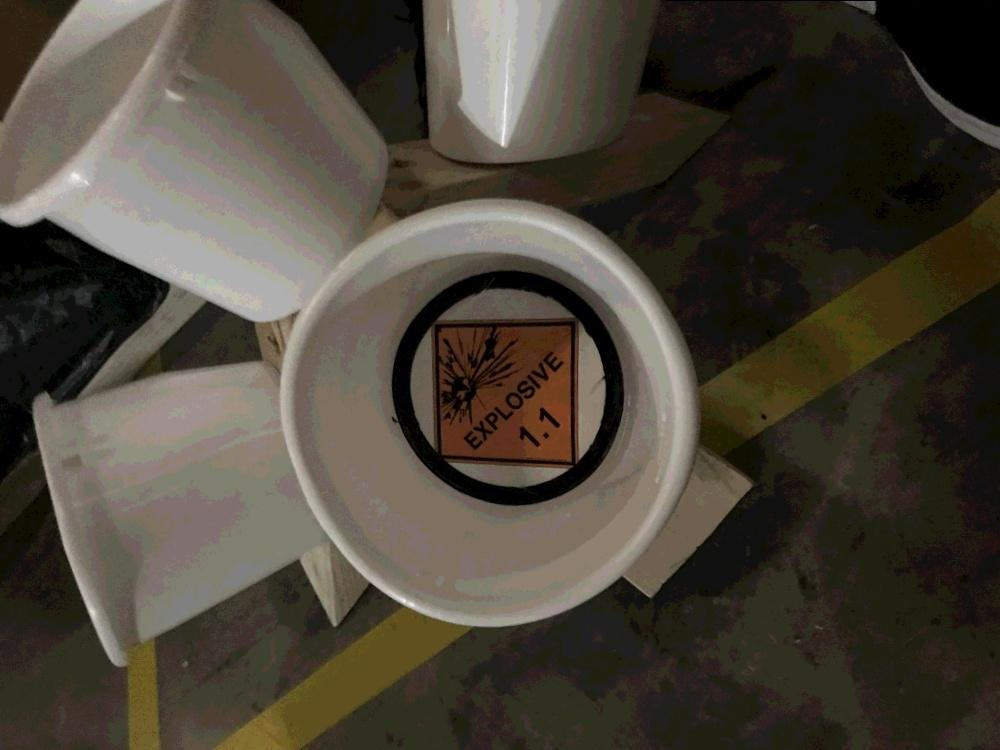explosive: (432, 318, 581, 470)
